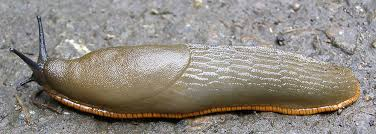slug: (13, 20, 367, 125)
